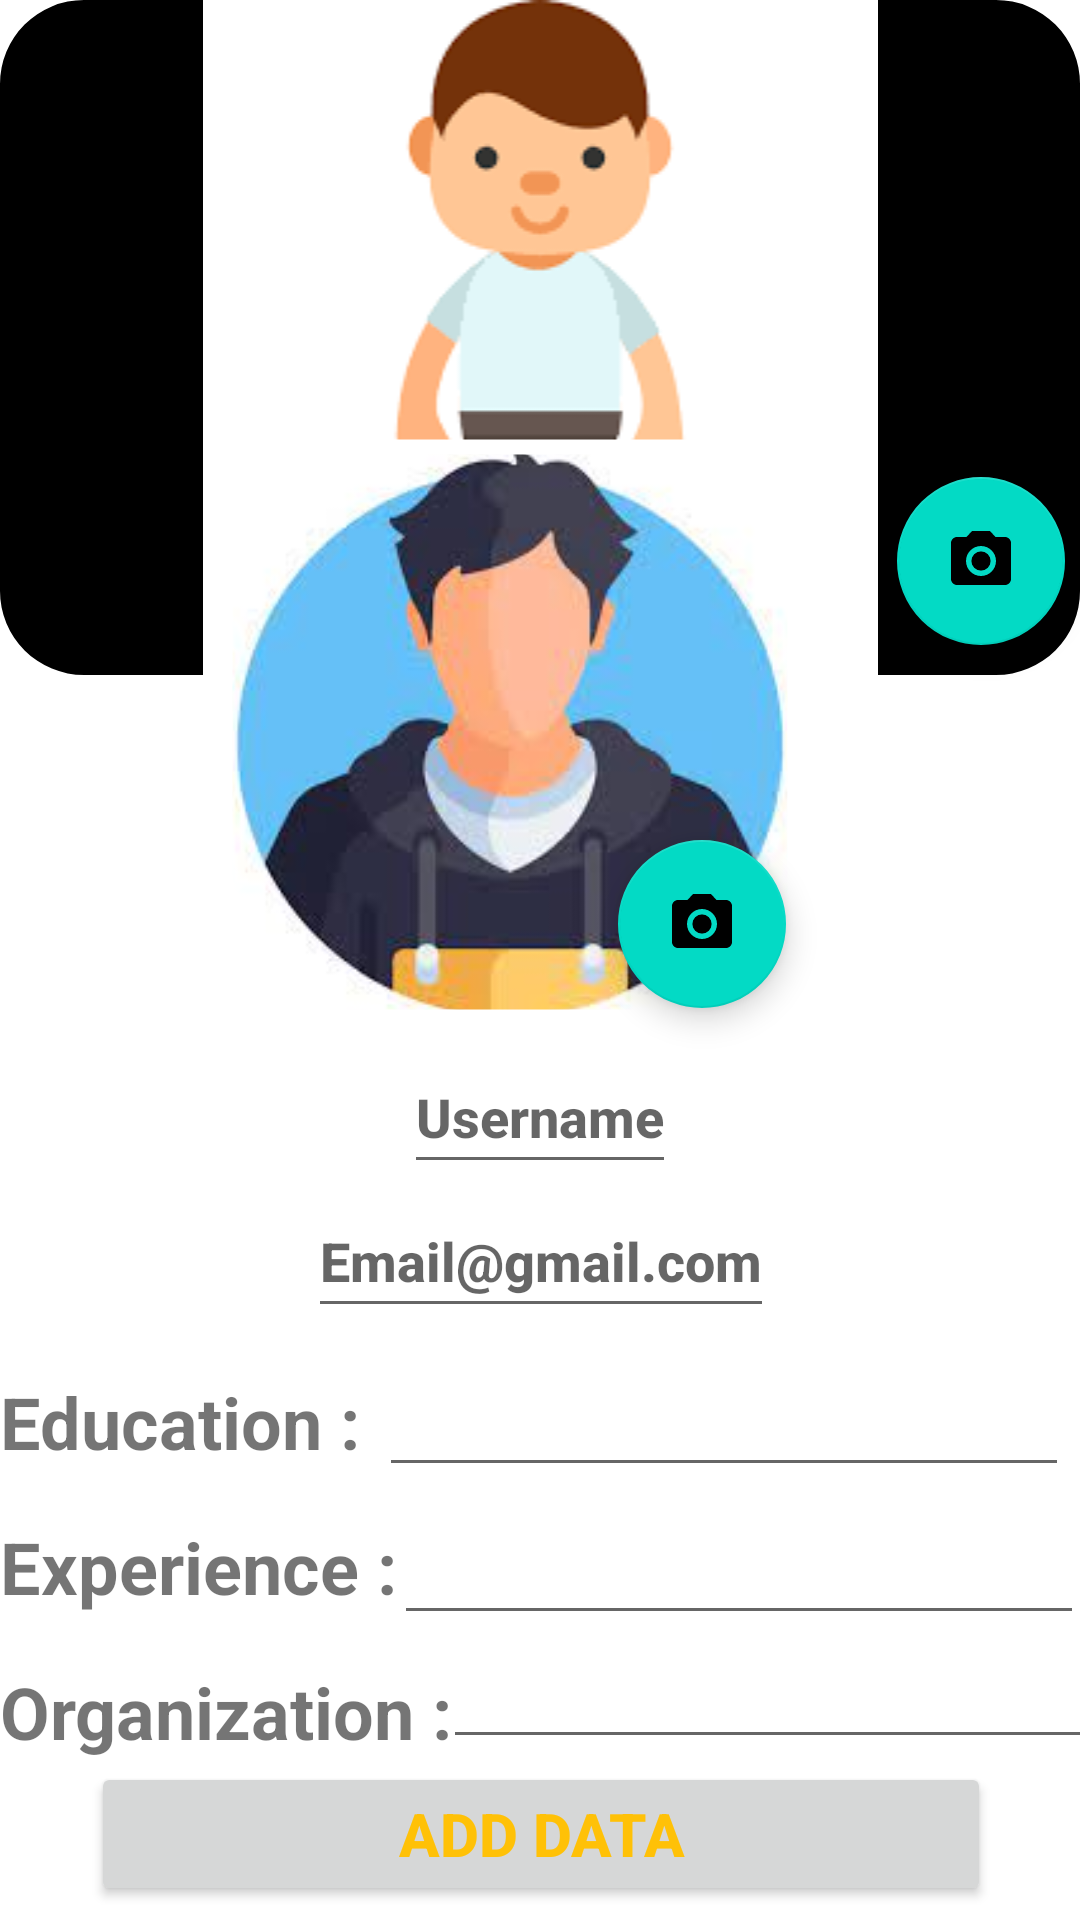

Icon click points for this 1080px×1920px phone screenshot, format [x,y]:
photo camera: [981,561], [702,924]
